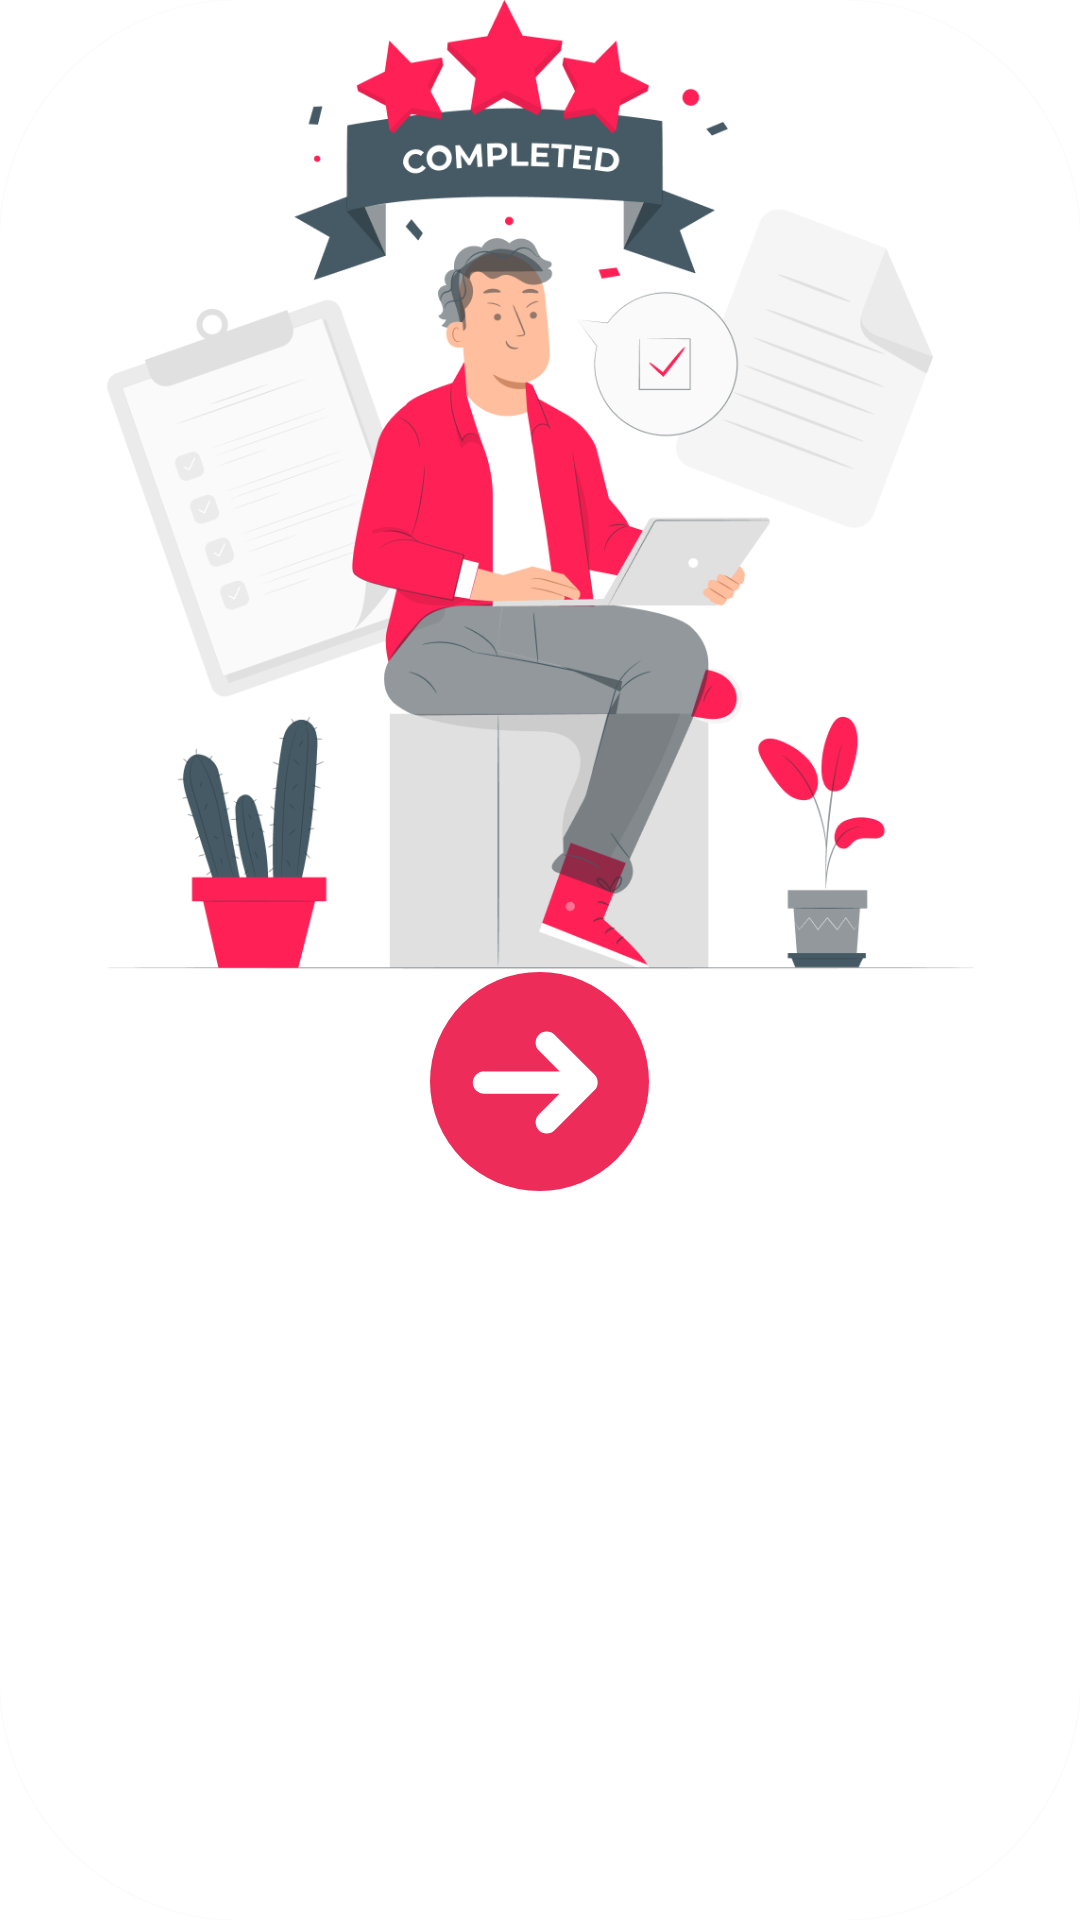

Named icons in this screenshot (1080*1920) and their bounding boxes, (x1, y1, x2, y2):
arrow right: (430, 972, 649, 1191)
